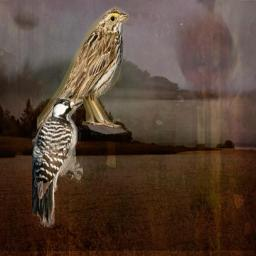Sparrow: (37, 6, 129, 136)
Woodpecker: (32, 98, 83, 228)
